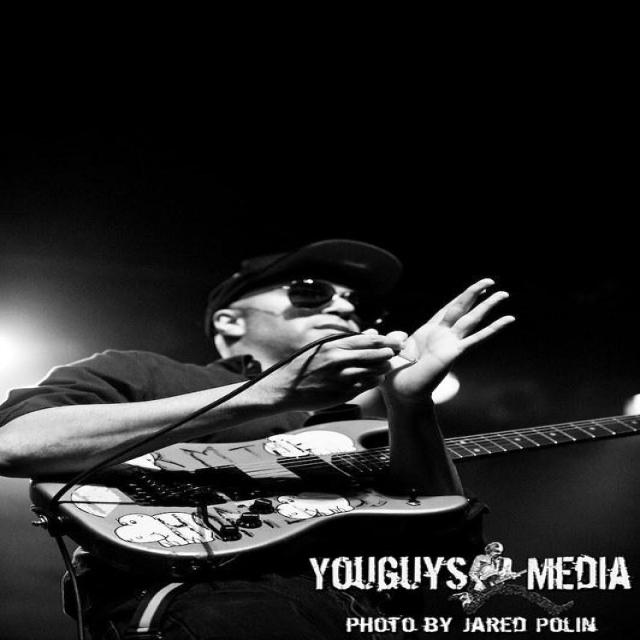guitar: (56, 420, 466, 579)
